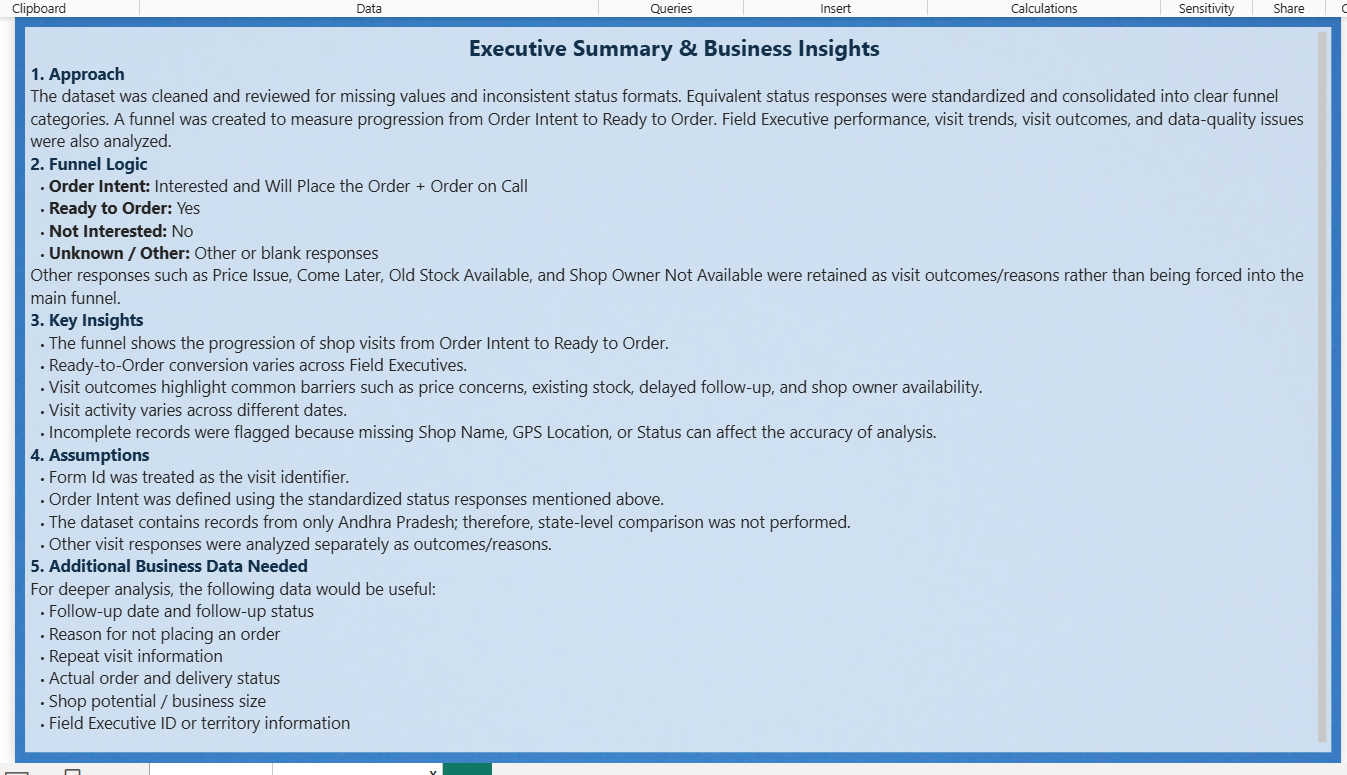

Layout of this report page (visuals, bound fields, positions):
{"tool":"powerbi","page":{"name":"Report & Insights","canvas":[1280,720],"ordinal":1},"visuals":[{"type":"textbox","box":[9.6,9.6,1261.1,699.8],"z":0}]}

Visuals, with their boxes in screenshot pixels (x1, y1, x2, y2):
textbox: 20, 20, 1329, 747
